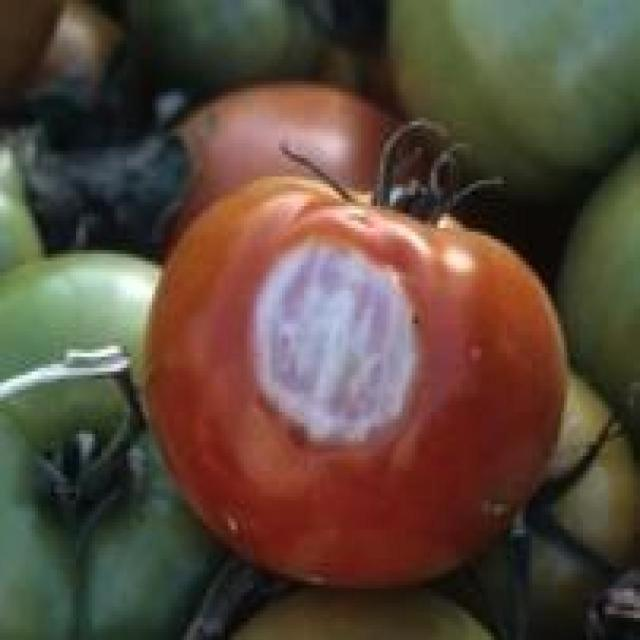Sunscald Fruit: (165, 152, 279, 302)
